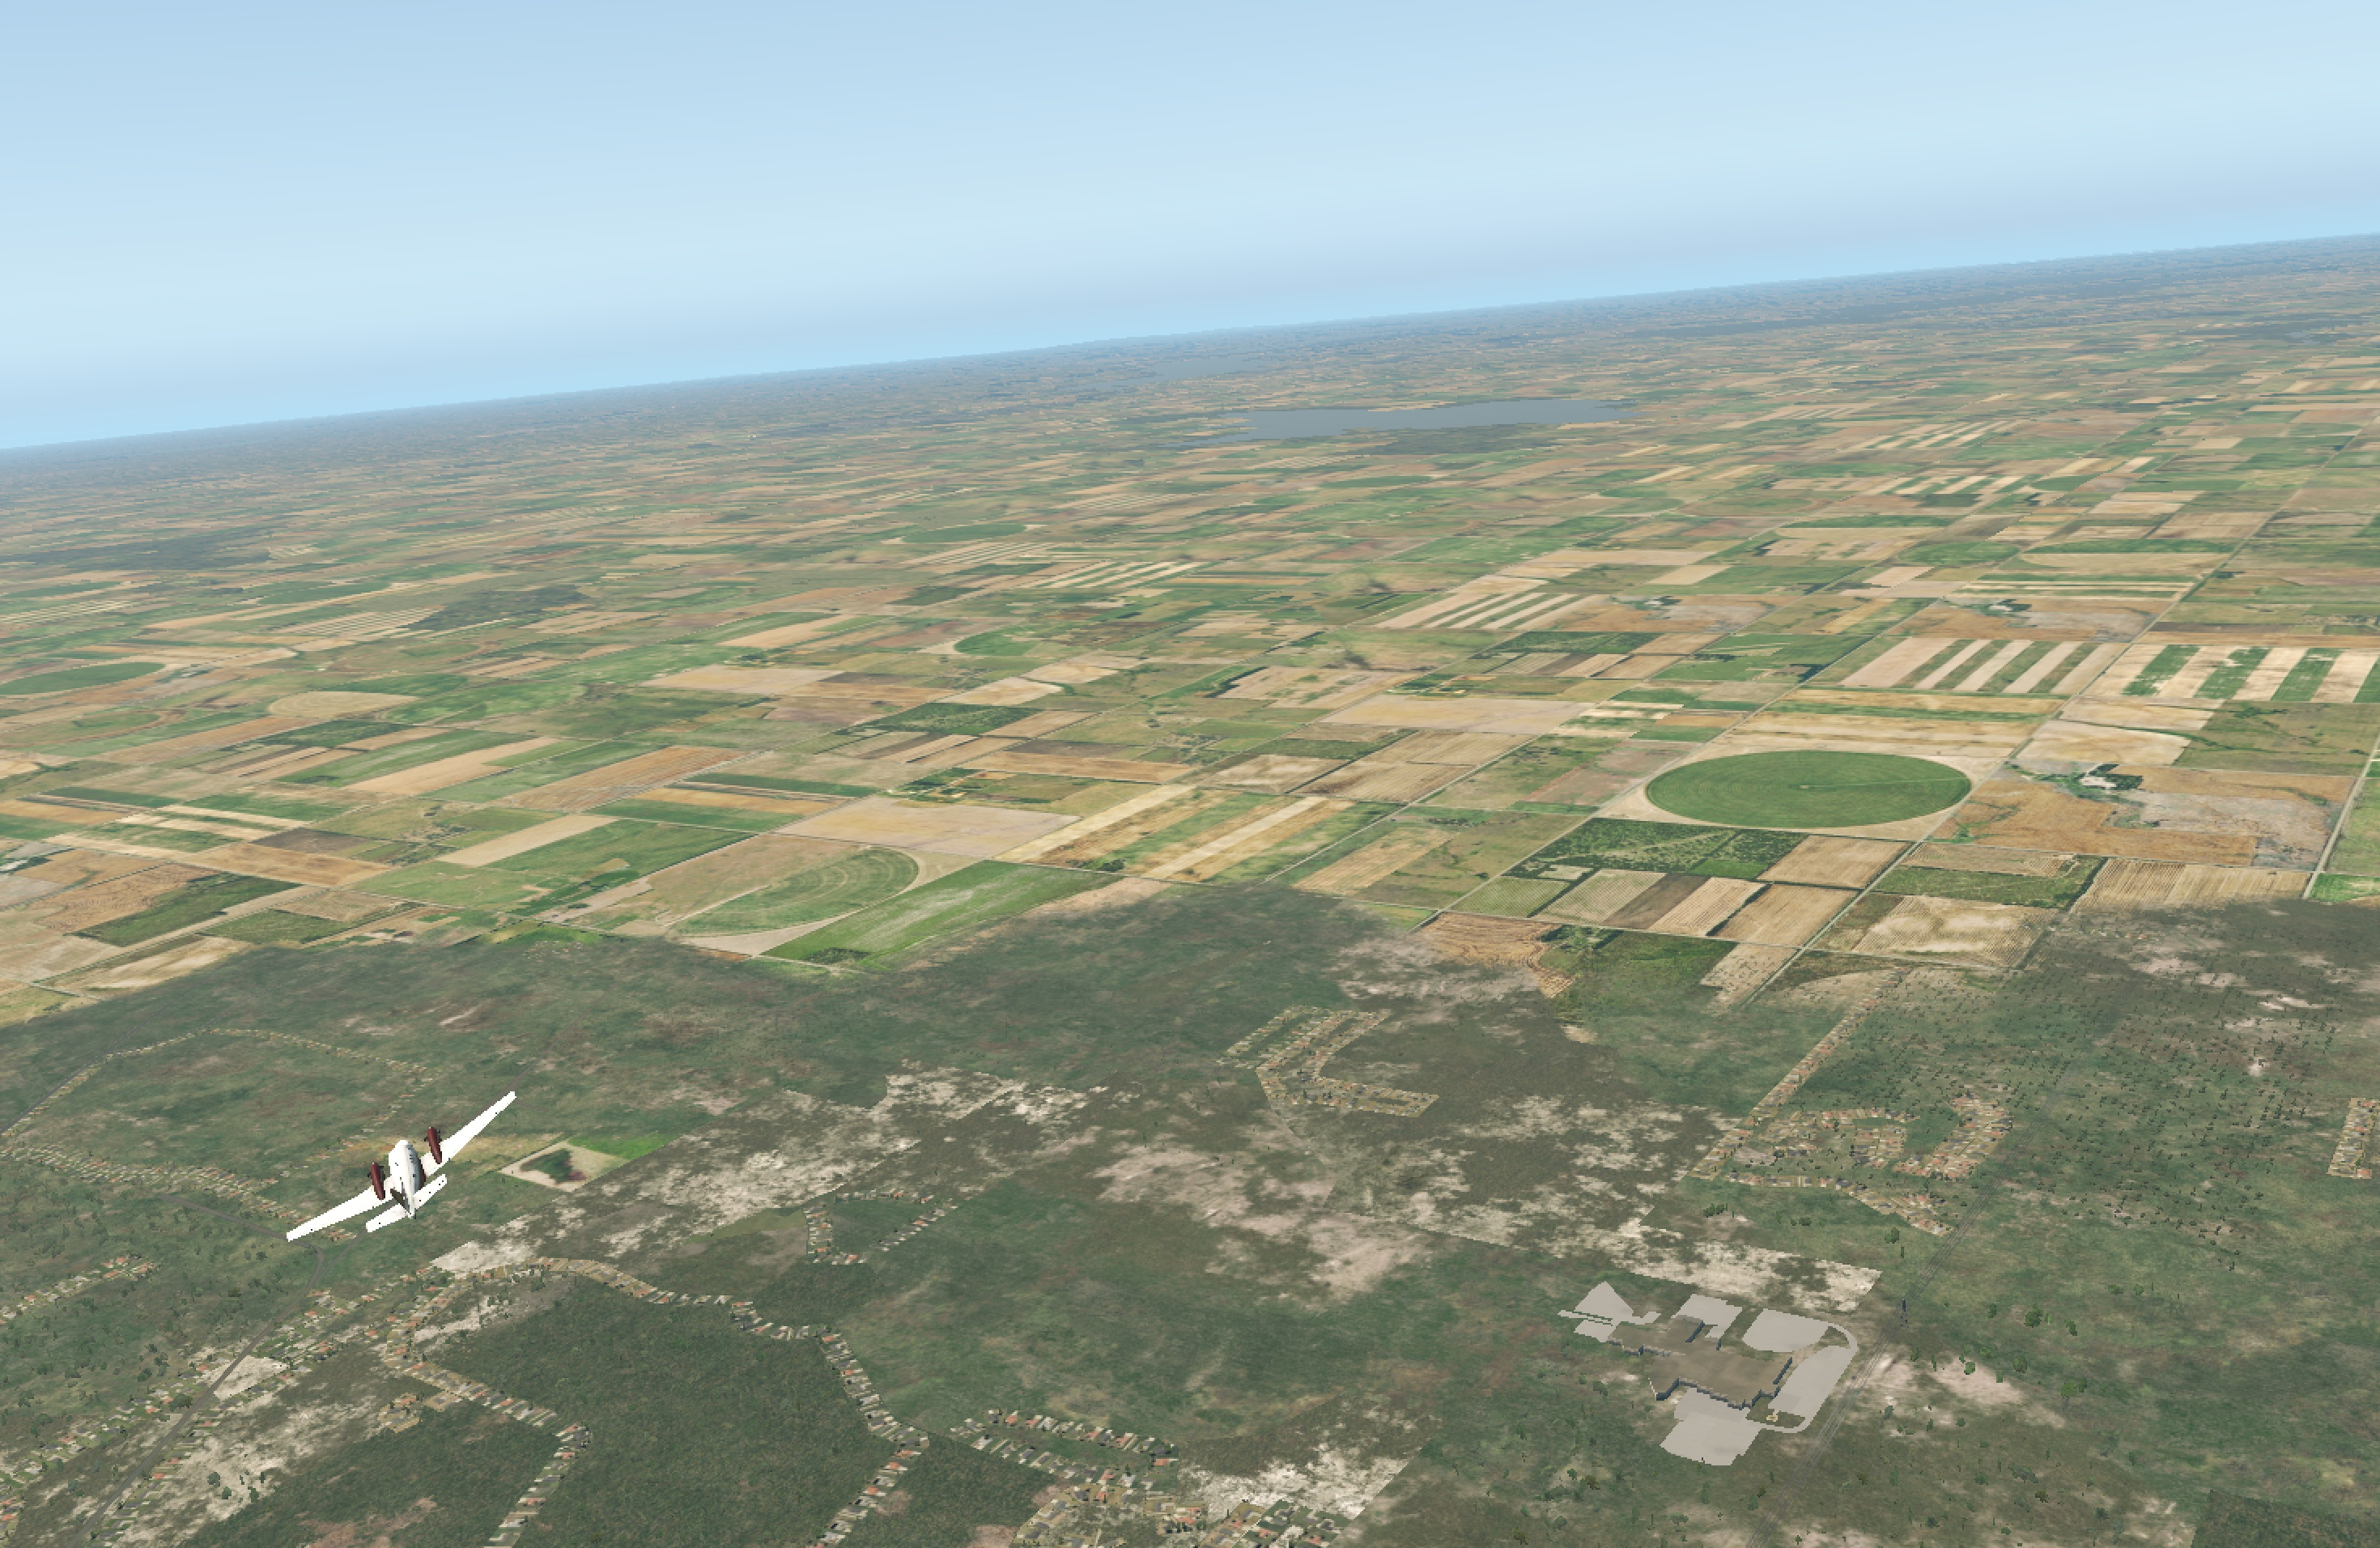aircraft: (293, 1128, 529, 1217)
